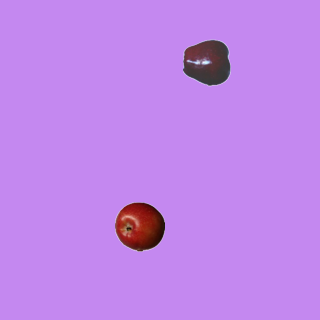Apple Braeburn: (114, 201, 164, 251)
Apple Red Delicious: (182, 37, 232, 87)
